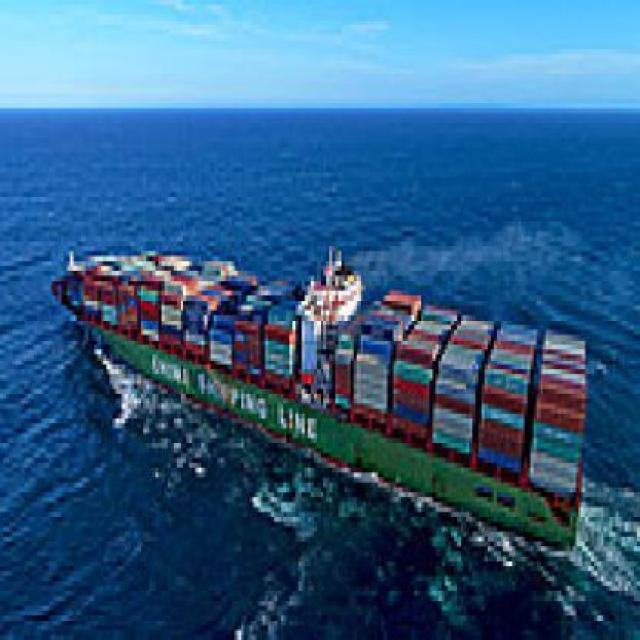container: (46, 227, 599, 572)
